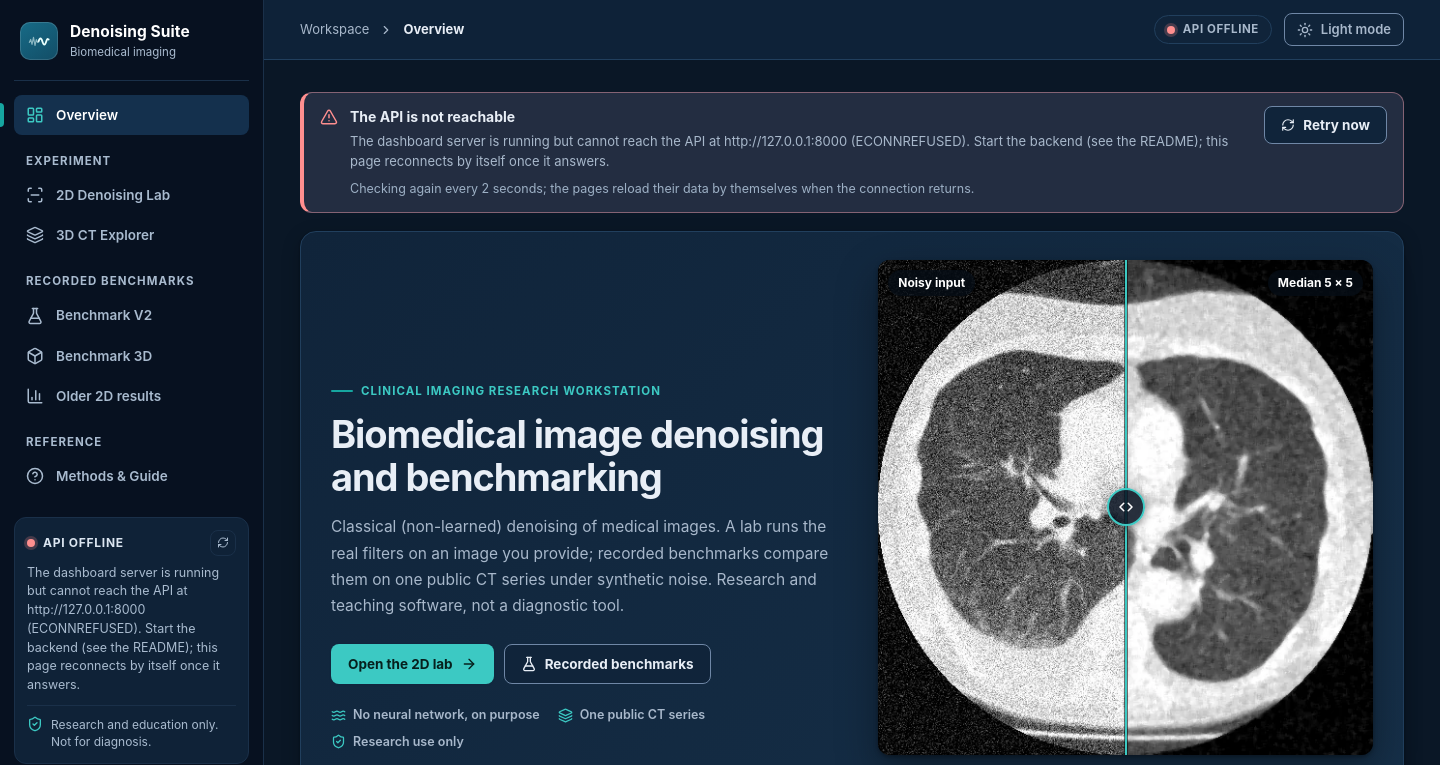
Test case: connection problems and recovery › offers an immediate retry
Click the button "Retry now": click(1326, 125) top-left (1264, 106), bottom-right (1387, 144)
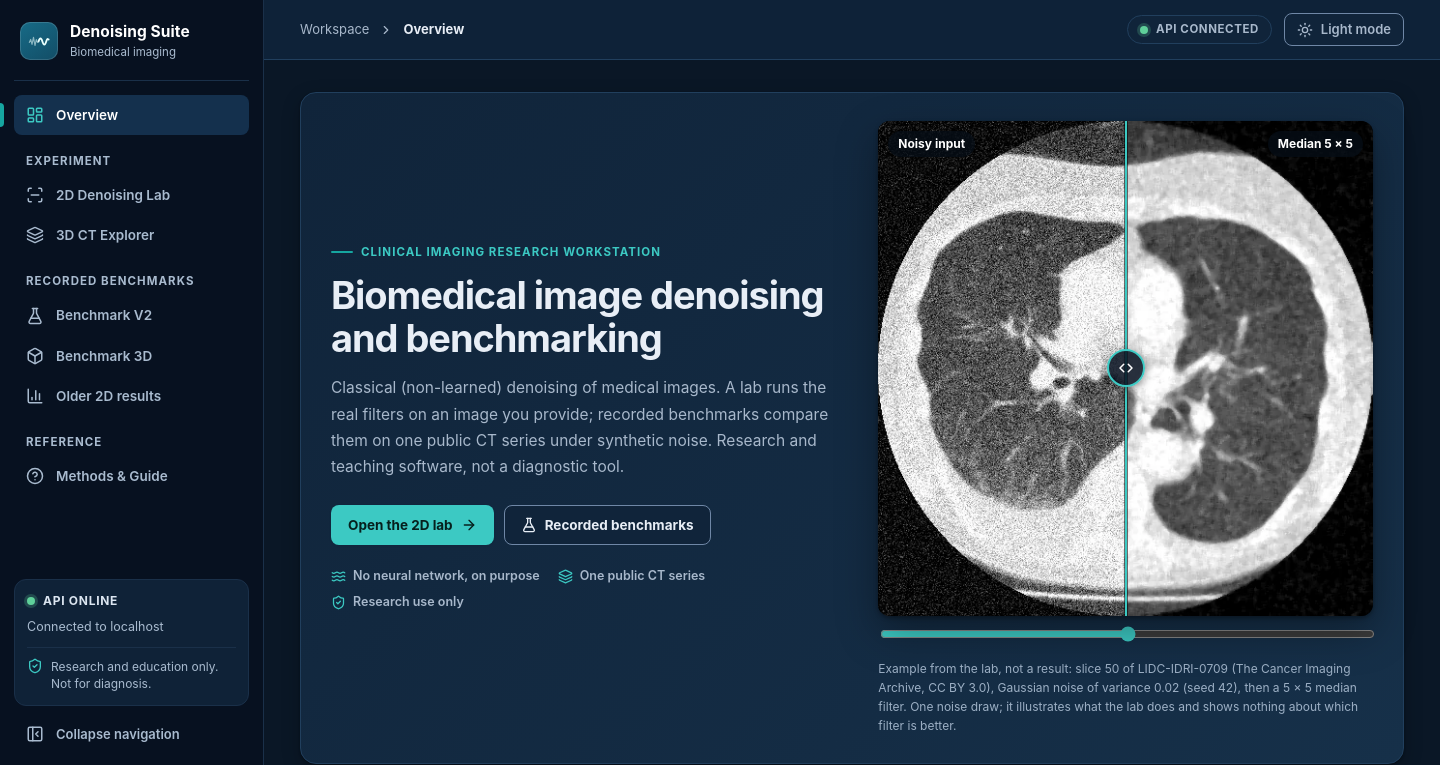
expect the message with test id "api-banner" is gone: met
